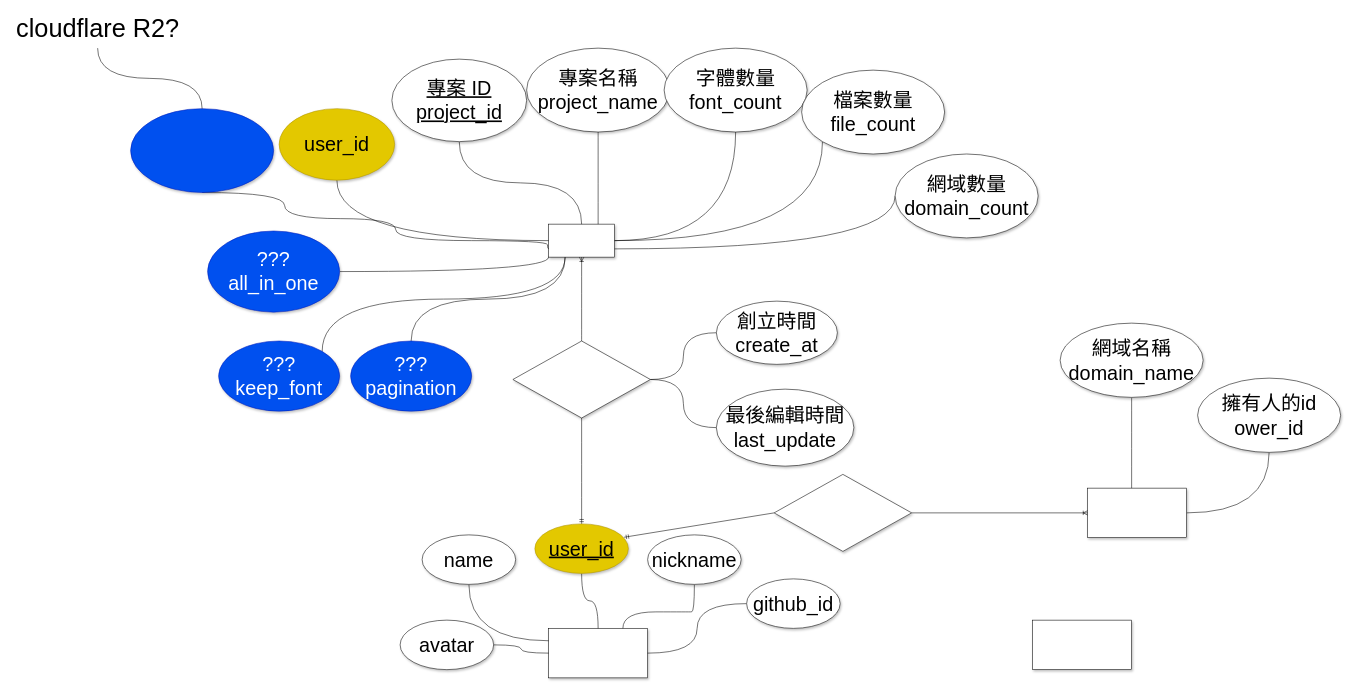
Some shapes in this 1354 by 691 pixel diagram are drawn without their labels. Here are the shapes that lost their labels. From the top down, the centre of each, then its label:
At (x=202, y=151): "??? cloudflare".
At (x=582, y=241): "project".
At (x=582, y=380): "創立".
At (x=843, y=513): "擁有".
At (x=1137, y=513): "domains".
At (x=598, y=654): "users".
At (x=1082, y=645): "fonts".
